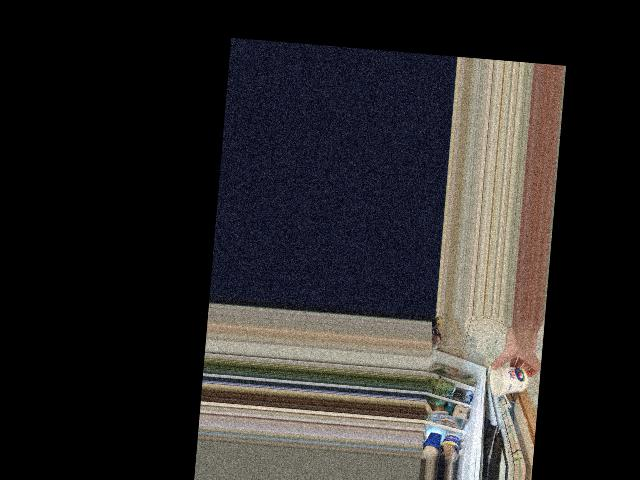cotage: (488, 360, 530, 399)
